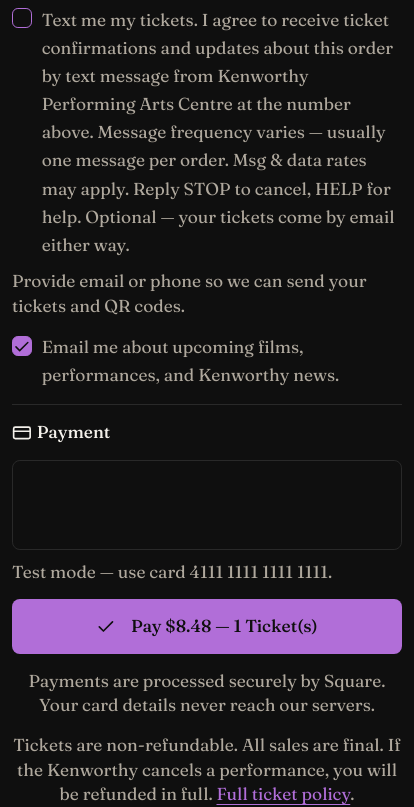
Test case: GuestCheckoutForm › will not submit without a way to reach the buyer
(page scrolled)
Click the button "Pay $8.48 — 1 Ticket(s)". click: (207, 626)
box: [12,599,402,654]
(page scrolled)
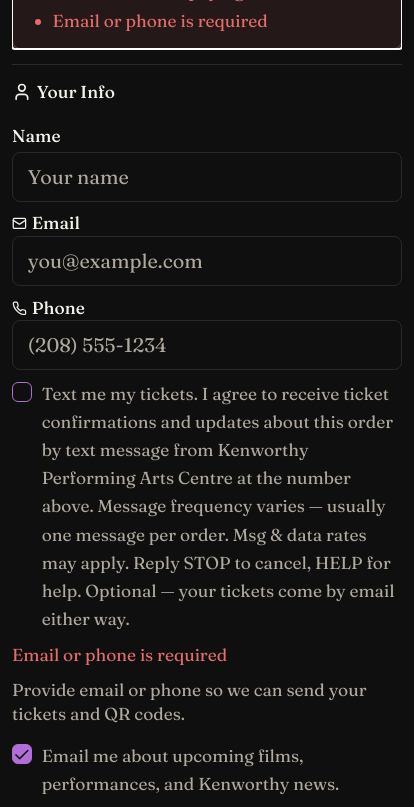
Expected: the list item "Email or phone is required" is shown, [53,10,268,30]
